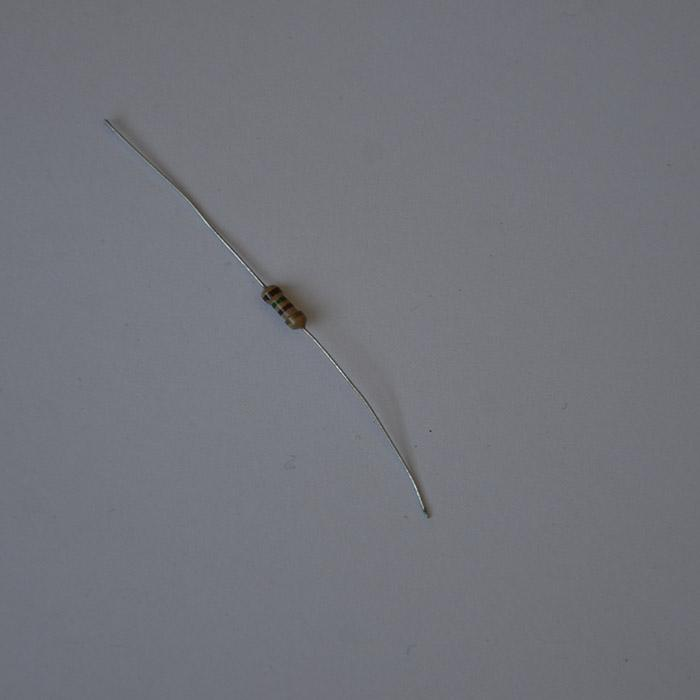resistor: (259, 283, 304, 330)
